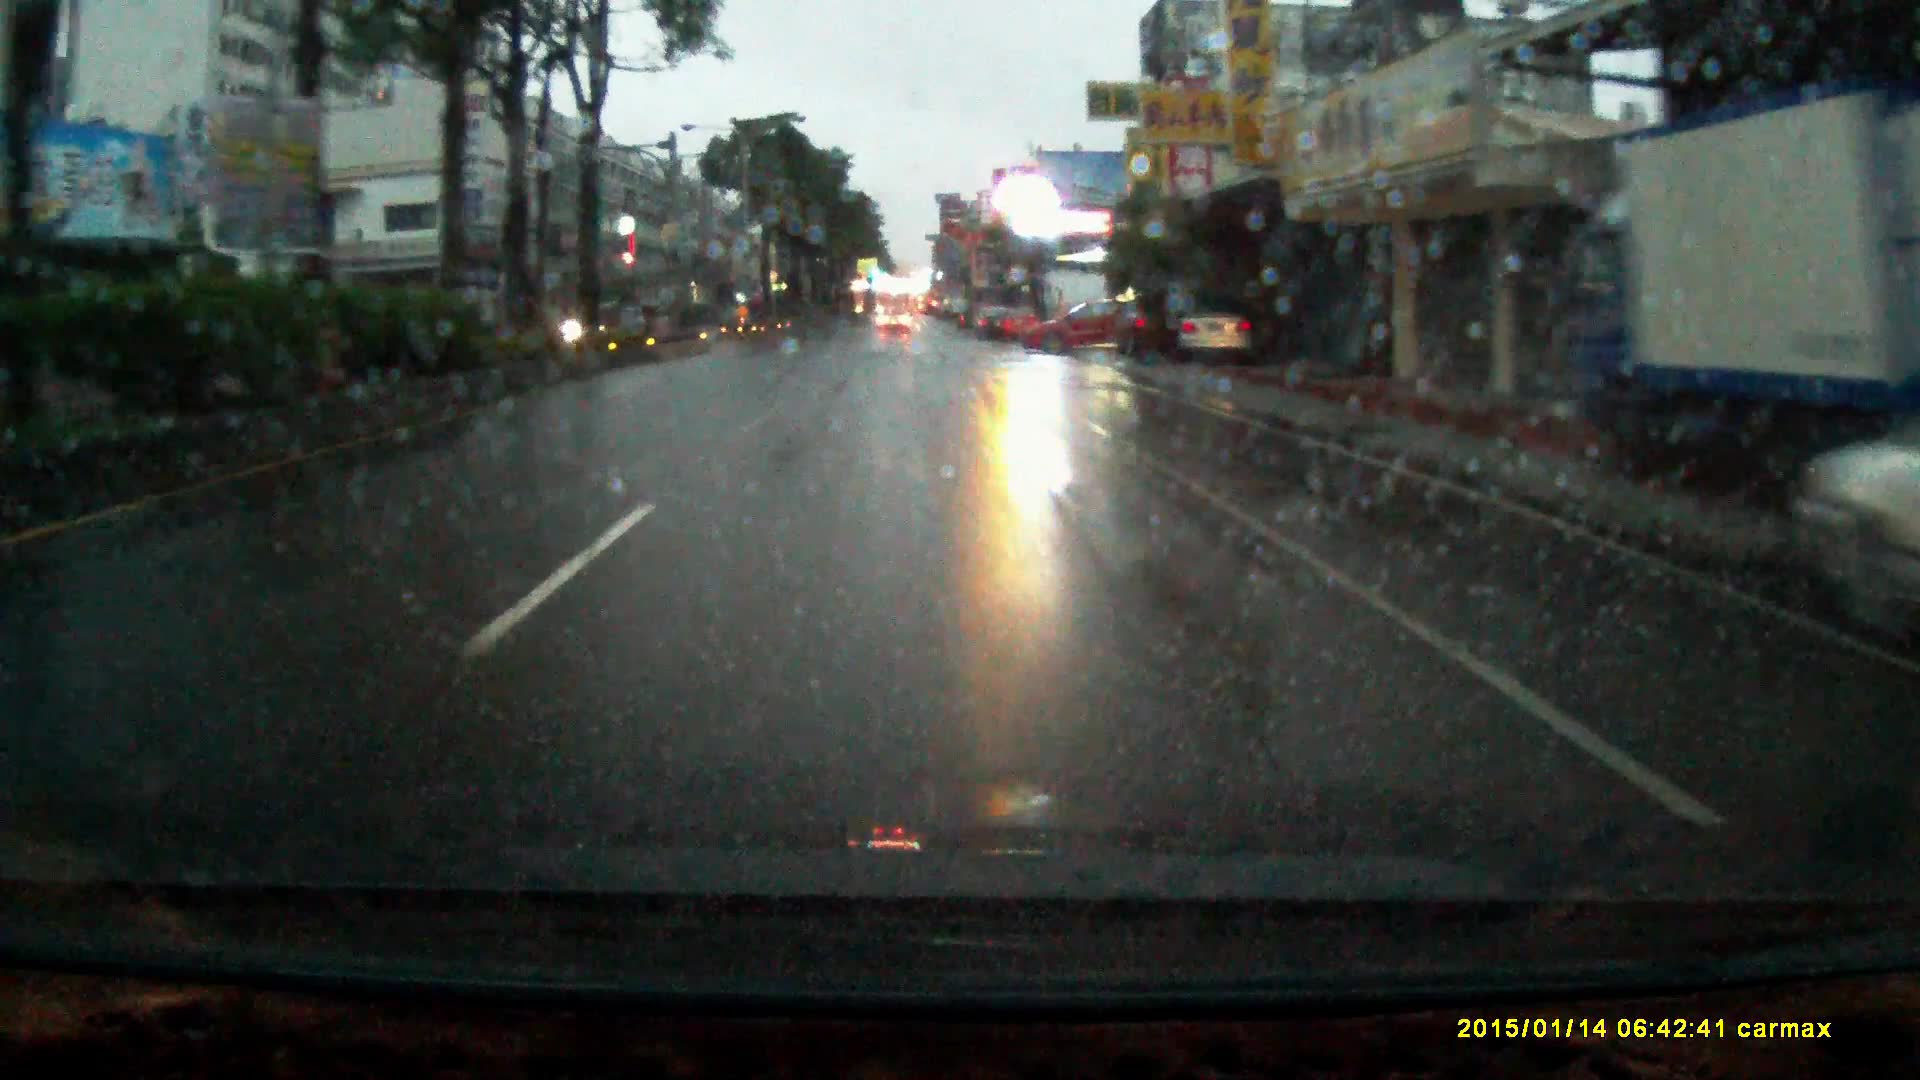vehicle: (1527, 95, 1920, 465), (1021, 294, 1153, 349), (1171, 291, 1257, 360), (1116, 293, 1188, 356), (1000, 299, 1043, 335), (880, 305, 913, 334)
